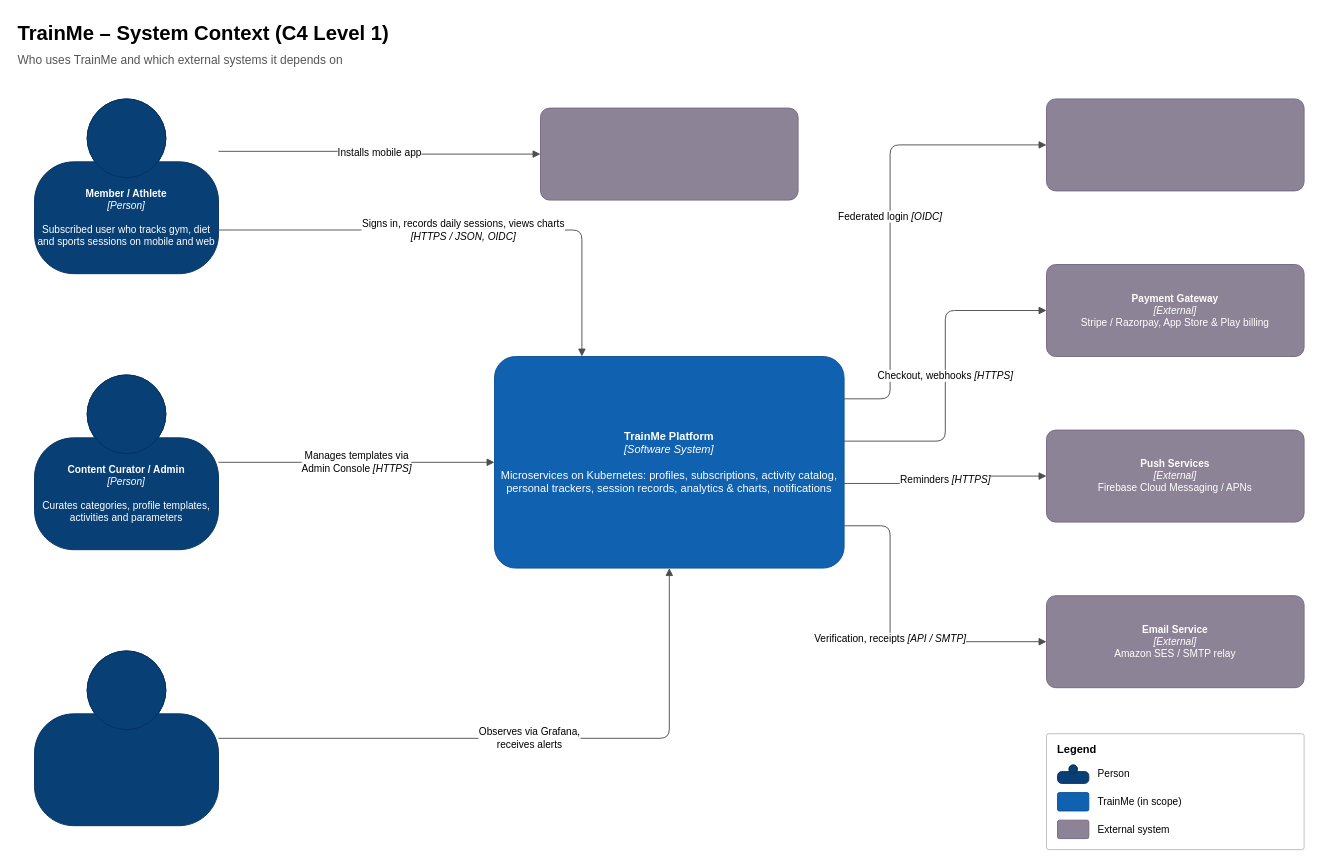
The diagram is 1338 pixels wide and 866 high, and some of its shapes have lost their labels. Each missing label, with the centre of its shape:
"App Stores [External] Apple App Store / Google Play" belongs at point 669,153.
"Ops / SRE [Person] Monitors health, traces, logs and alerts" belongs at point 126,738.
"Social Identity Providers [External] Sign in with Google / Apple" belongs at point 1175,144.
